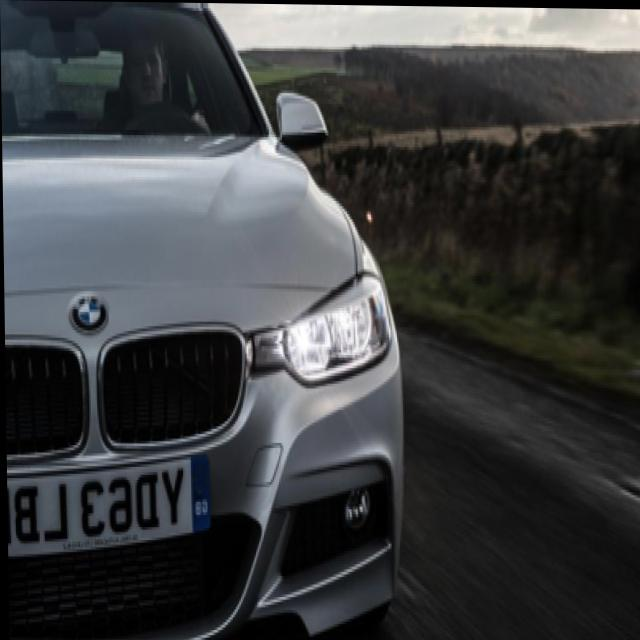licence: (7, 455, 191, 553)
